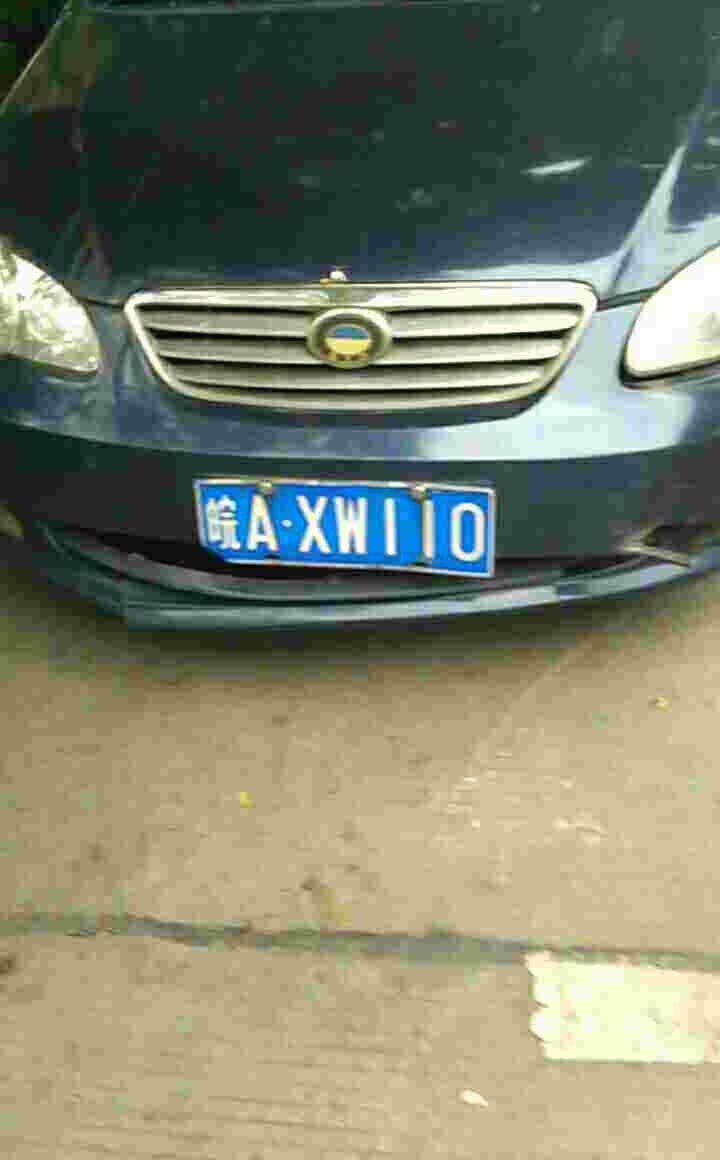license_plate: (187, 486, 499, 569)
